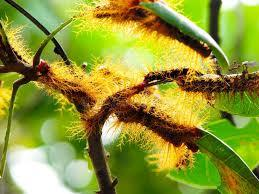Caterpillar: (116, 100, 195, 148), (144, 9, 212, 59), (37, 59, 96, 113), (178, 71, 258, 95), (92, 4, 142, 24)
